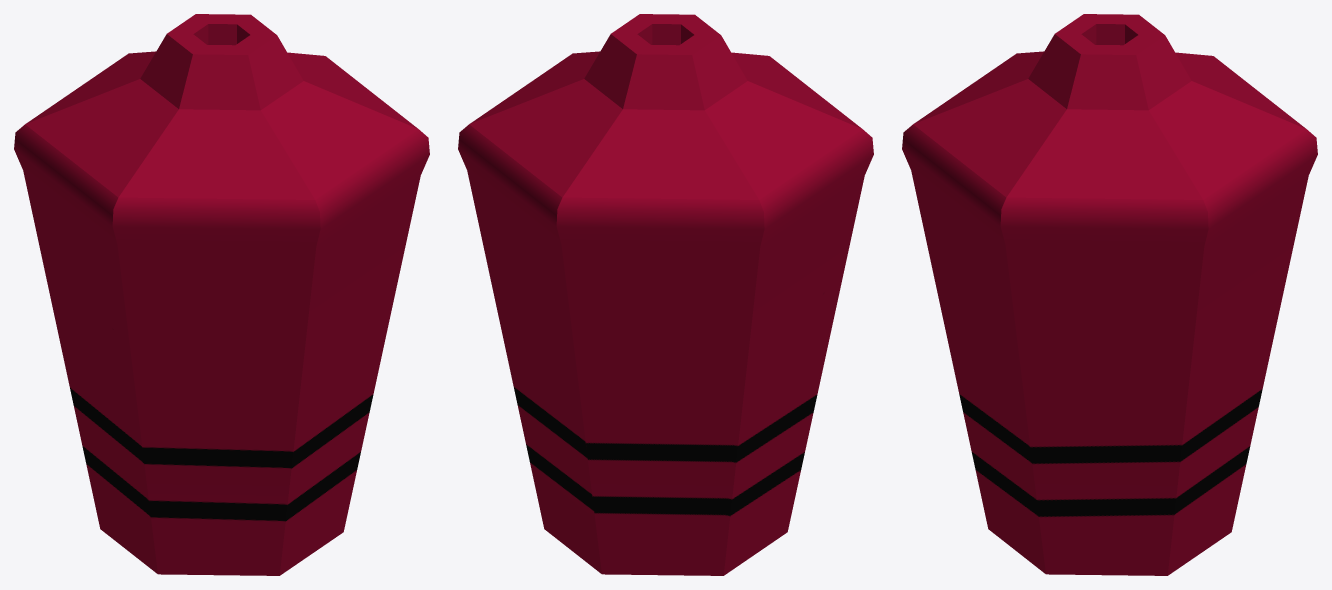
File: Gourd1_Textured.fbx
3 views of the same model, side by side, from view 1: azimuth 30°, elevation 25°; view 2: azimuth 150°, elevation 25°; view 3: azimuth 270°, elevation 25° (orthographic).
Visible parts, largest first — view 1: Gourd1; view 2: Gourd1; view 3: Gourd1.
Boxes of the visible parts, box(x1,y1,x2,y2) form: Gourd1: box(14, 14, 429, 575); Gourd1: box(458, 14, 873, 575); Gourd1: box(902, 14, 1317, 575).
Size of the model in its own units: 0.838 by 1.25 by 0.9512.
